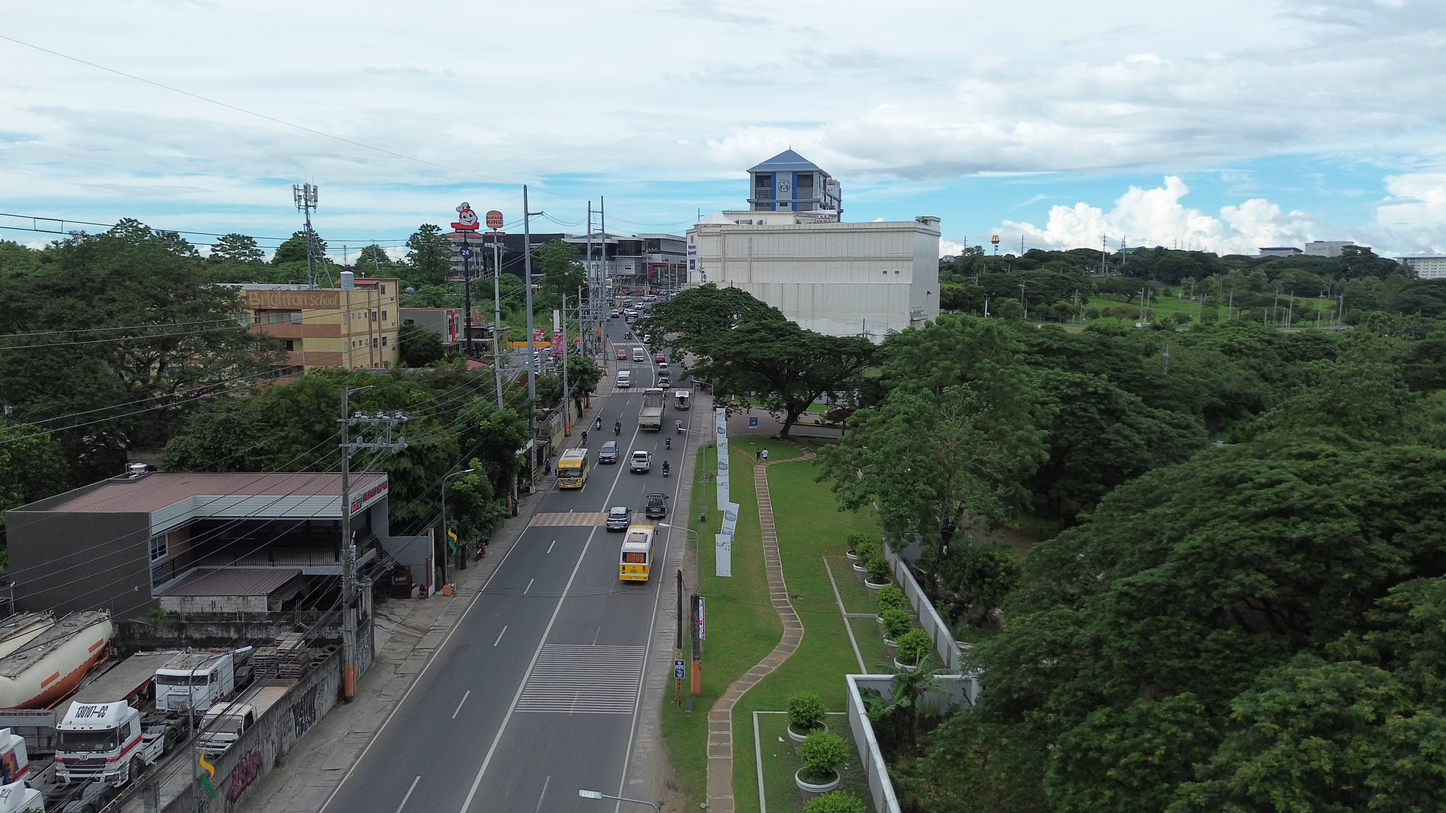car: (605, 507, 631, 531), (629, 450, 651, 473), (656, 373, 670, 388), (656, 360, 669, 371), (654, 353, 666, 364), (616, 349, 627, 360)
motorcycle: (662, 461, 670, 478), (595, 417, 602, 430), (615, 422, 621, 435), (665, 437, 671, 449)
truck: (198, 681, 291, 755), (673, 389, 692, 410)
vehicle: (0, 611, 113, 708), (56, 701, 165, 784), (198, 683, 290, 755), (155, 651, 235, 713), (198, 701, 257, 755), (619, 525, 654, 581), (0, 781, 44, 813), (557, 448, 590, 488), (639, 387, 664, 431), (645, 493, 668, 518), (598, 441, 619, 464), (673, 390, 691, 410), (615, 370, 631, 388), (656, 374, 671, 389), (632, 347, 646, 362), (656, 356, 668, 370), (654, 353, 666, 365)
